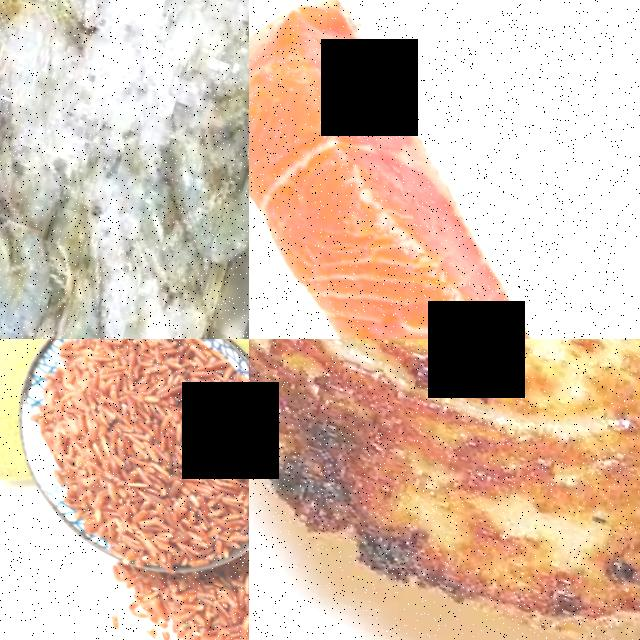red rice: (0, 339, 249, 576), (94, 533, 249, 640)
salmon: (249, 0, 640, 339)
sea scallops: (249, 339, 640, 640)
shrimp: (128, 98, 249, 281), (0, 0, 105, 140), (0, 266, 125, 339), (0, 203, 61, 339)
